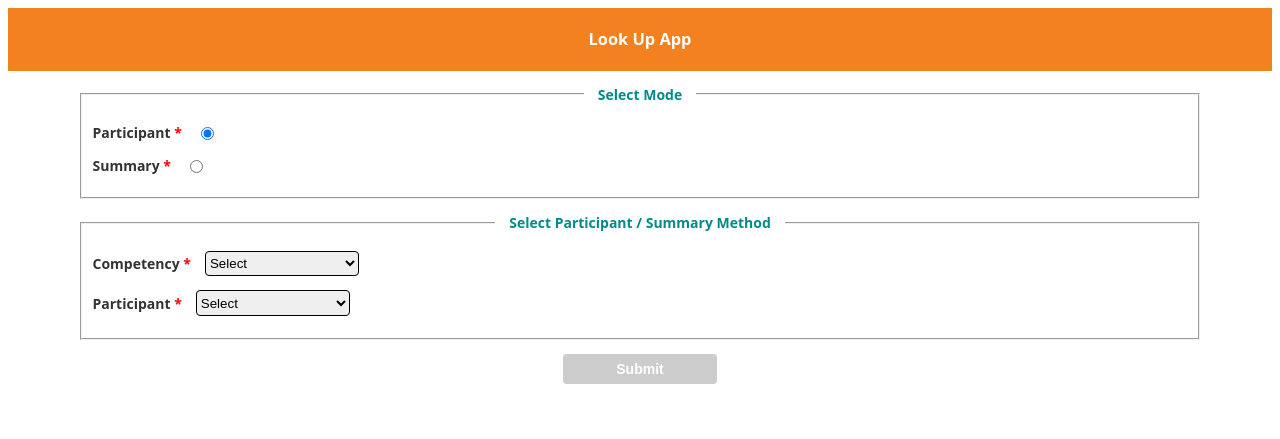
Scenario: LookupForm Component › Generates output when valid data is selected in Participant mode
Expected: the heading "Look Up App" is shown, x1=589 y1=28 x2=692 y2=50
// Select a competency
Select "Communication" in the dropdown labelled "Competency *". click: (282,264)
box: x1=205 y1=251 x2=359 y2=276
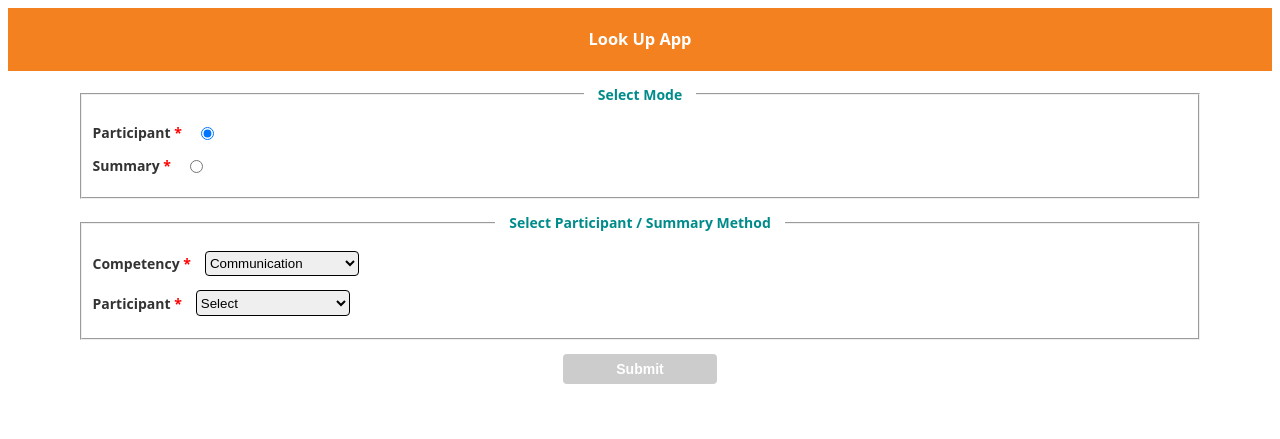
Select "Alice" in the dropdown labelled "Participant *". click: (273,303)
box: x1=196 y1=290 x2=350 y2=316
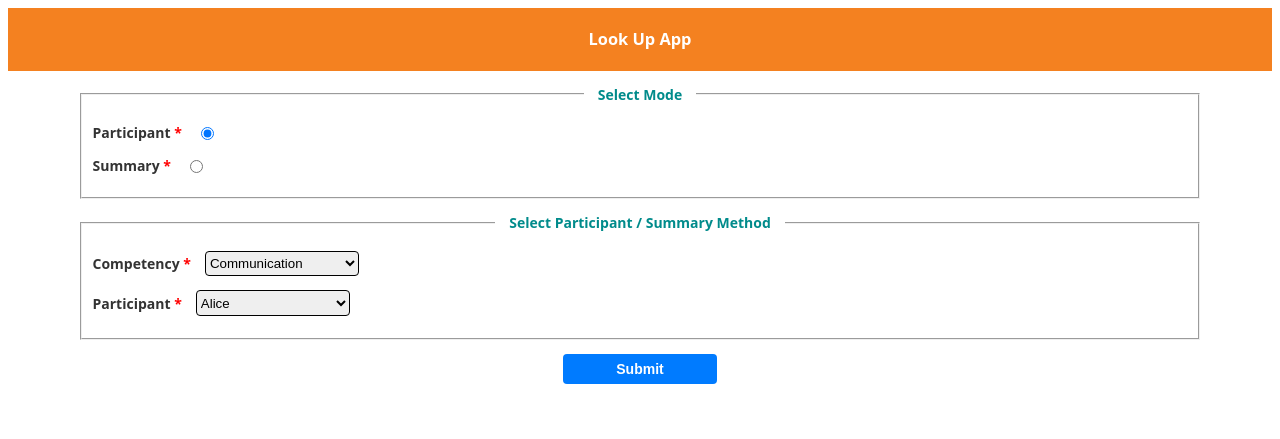
Expected: the button "Submit" is enabled
Click the button "Submit". click: (640,369)
box: x1=563 y1=354 x2=717 y2=384
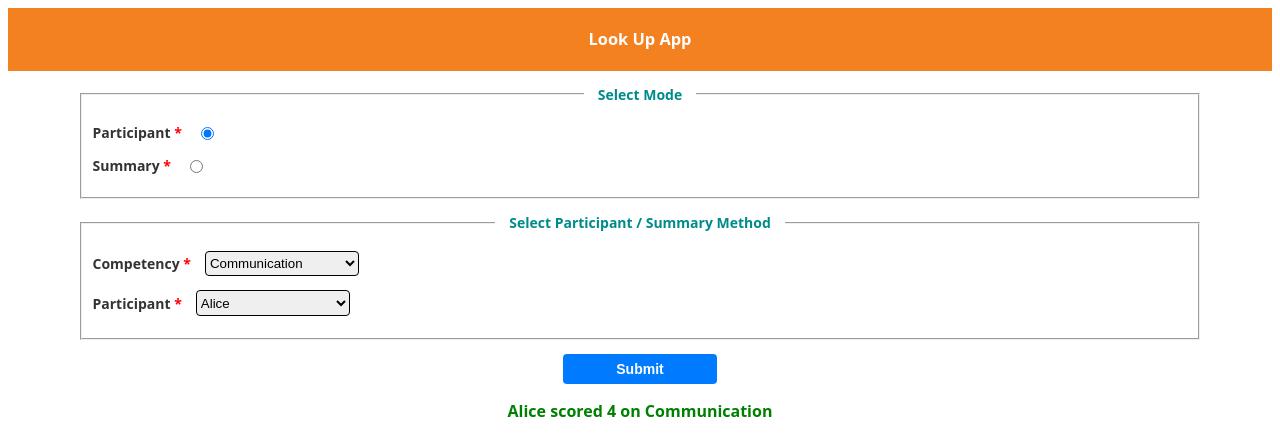
Expected: the text "Alice scored 4 on Communication" is shown, x1=508 y1=400 x2=772 y2=422
